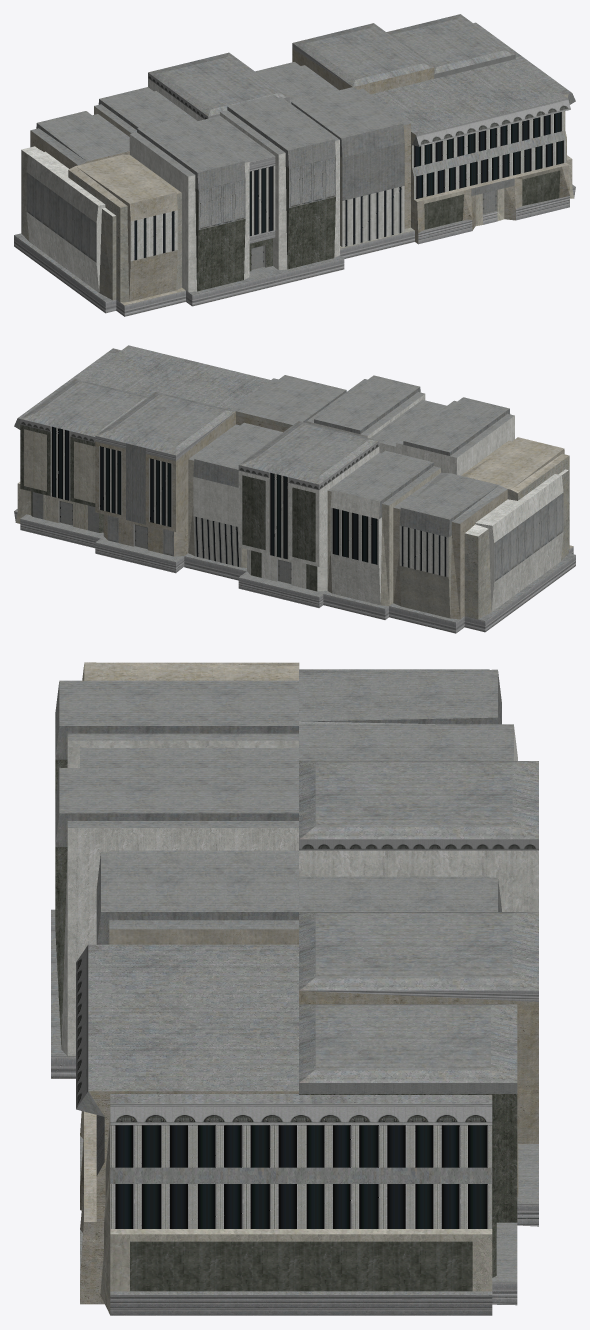
File: thm_corl_imprv_building_block_64x32_s02_l2.fbx
The picture shows the model from 3 angles, top to bottom: view 1: azimuth 30°, elevation 25°; view 2: azimuth 150°, elevation 25°; view 3: azimuth 270°, elevation 25°; orthographic projection. The views are drawn at different scales.
Visible parts, largest first — view 1: mesh_node; view 2: mesh_node; view 3: mesh_node.
Boxes of the visible parts, left/top/right/bottom form: mesh_node: left=14, top=14, right=575, bottom=316; mesh_node: left=14, top=345, right=575, bottom=633; mesh_node: left=51, top=662, right=538, bottom=1315.
Size of the model in its own units: 65.11 by 17.39 by 29.5.
